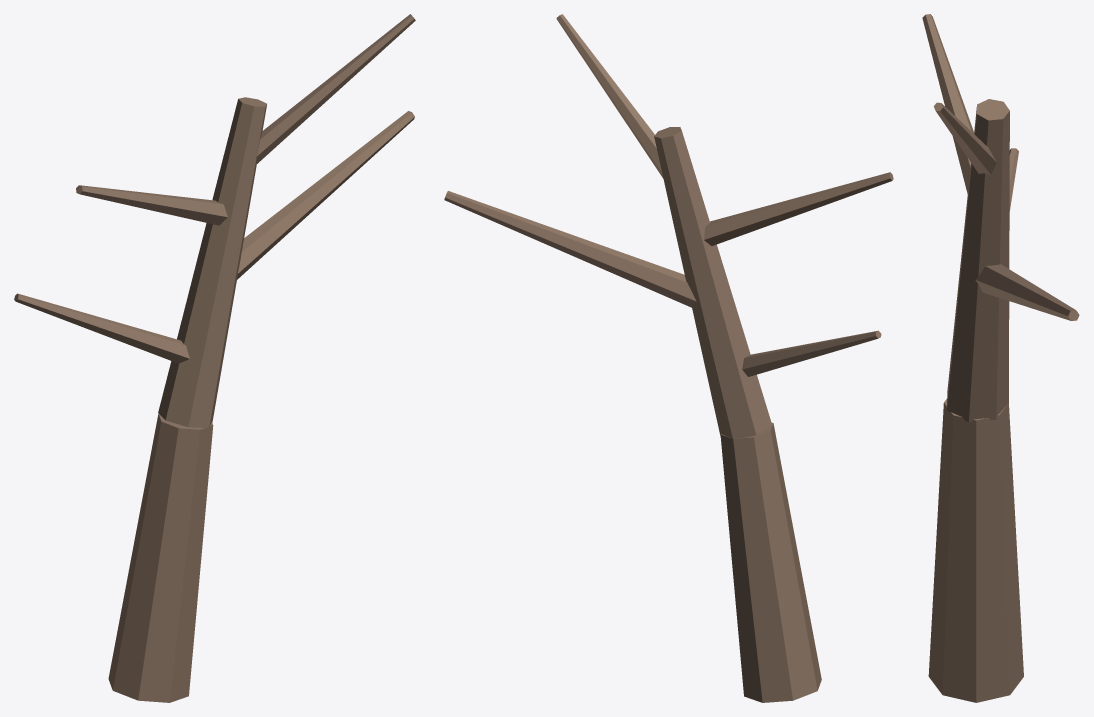
File: deadwood_windswept_a.glb
3 views of the same model, side by side, from view 1: azimuth 30°, elevation 25°; view 2: azimuth 150°, elevation 25°; view 3: azimuth 270°, elevation 25° (orthographic). The views are drawn at different scales.
Visible parts, largest first — view 1: trunk_0, trunk_1, branch_0, branch_2, branch_3, branch_1; view 2: trunk_0, trunk_1, branch_0, branch_1, branch_2, branch_3; view 3: trunk_0, trunk_1, branch_0, branch_1, branch_2, branch_3.
Boxes of the visible parts, box(x1,y1,x2,y2) form: trunk_0: box(108, 413, 213, 702); trunk_1: box(158, 97, 266, 427); branch_0: box(237, 111, 414, 279); branch_2: box(256, 14, 415, 164); branch_3: box(14, 293, 189, 363); branch_1: box(76, 185, 227, 225); trunk_0: box(720, 422, 821, 702); trunk_1: box(654, 127, 772, 438); branch_0: box(444, 191, 696, 307); branch_1: box(704, 172, 893, 245); branch_2: box(556, 14, 663, 178); branch_3: box(742, 330, 881, 376); trunk_0: box(928, 399, 1023, 702); trunk_1: box(947, 99, 1009, 422); branch_0: box(975, 264, 1079, 320); branch_1: box(922, 14, 974, 193); branch_2: box(934, 102, 996, 174); branch_3: box(1009, 148, 1018, 211).
Size of the model in its own units: 5.14 by 7.3 by 1.45.
